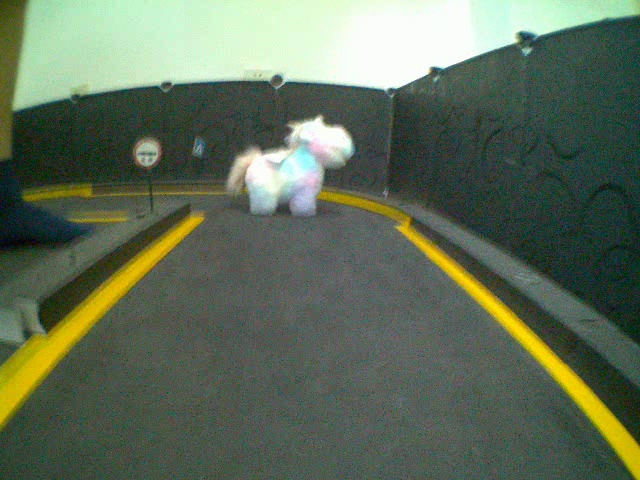unicorn: (225, 112, 358, 218)
